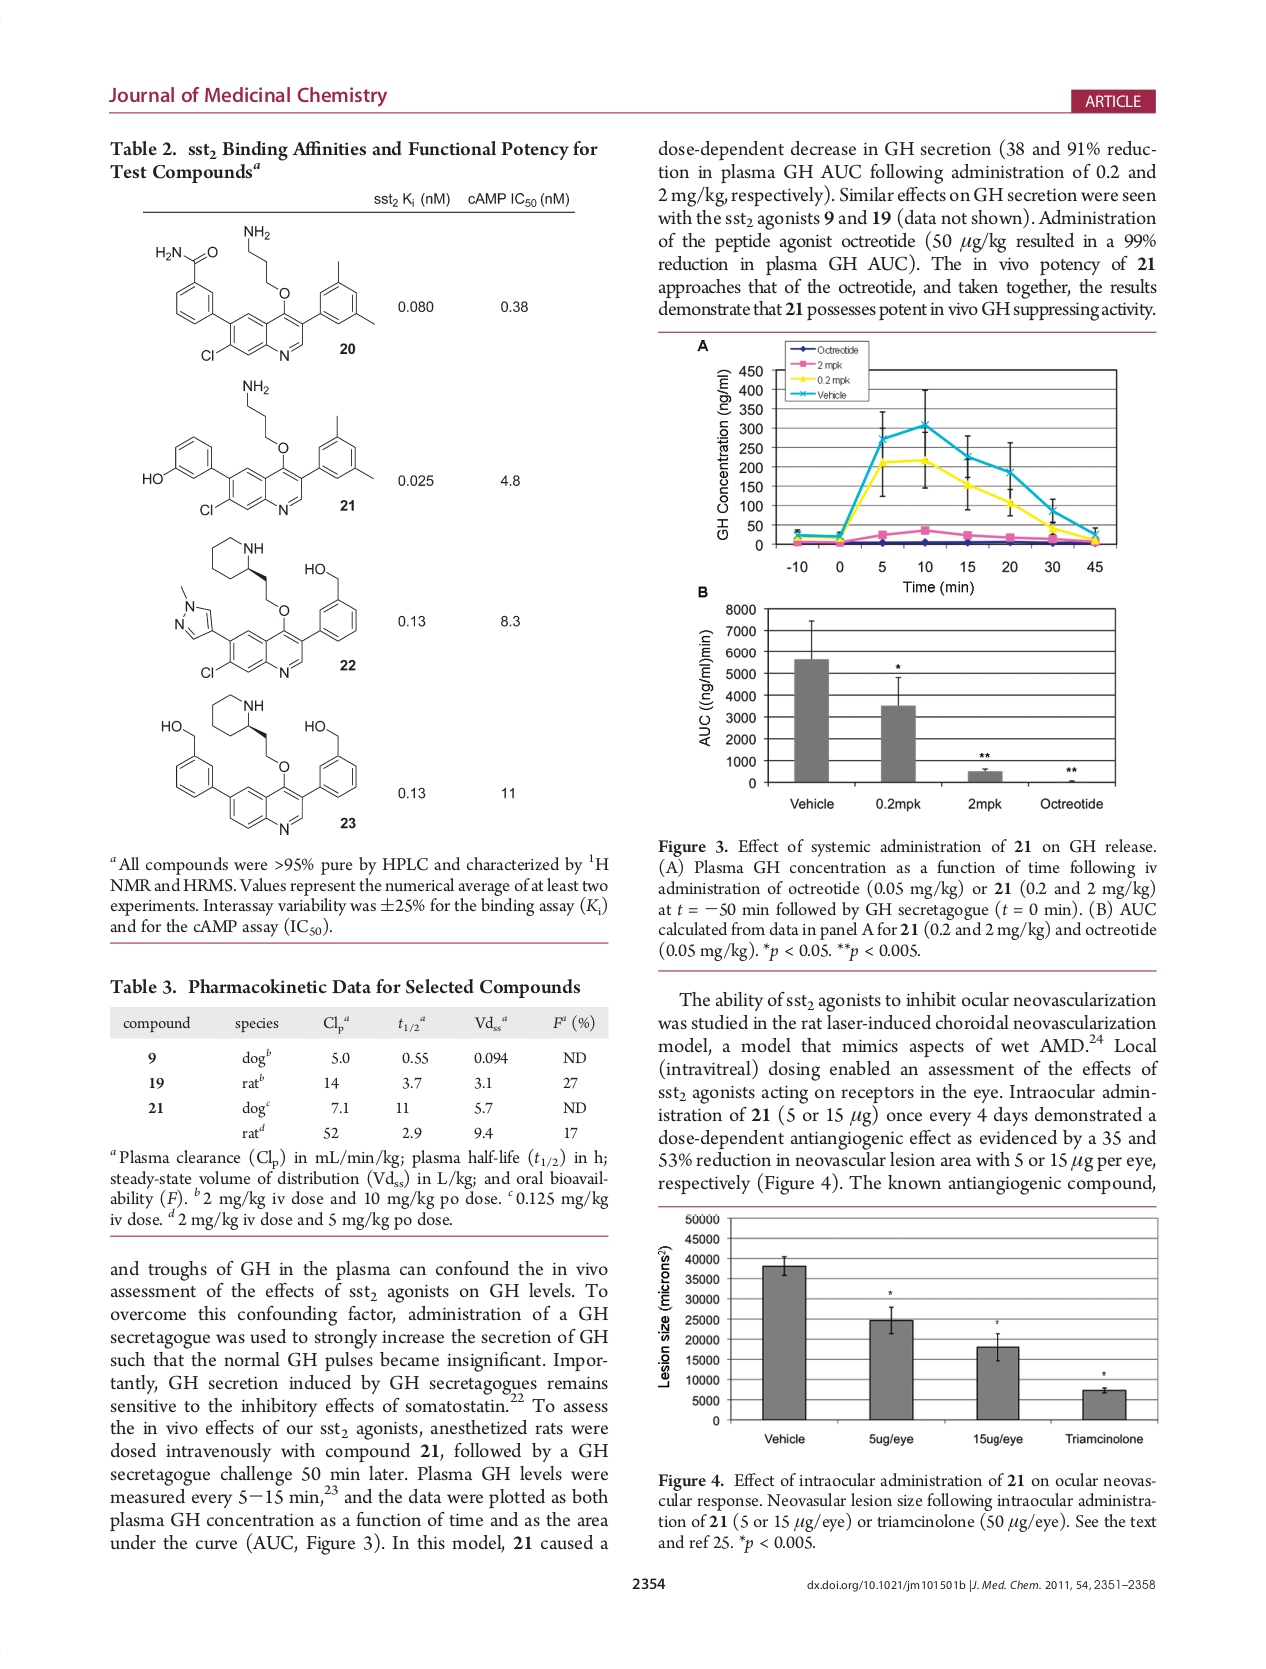exist_molecular: (137, 374, 379, 519), (152, 221, 376, 366), (156, 690, 358, 838), (172, 535, 360, 680)
